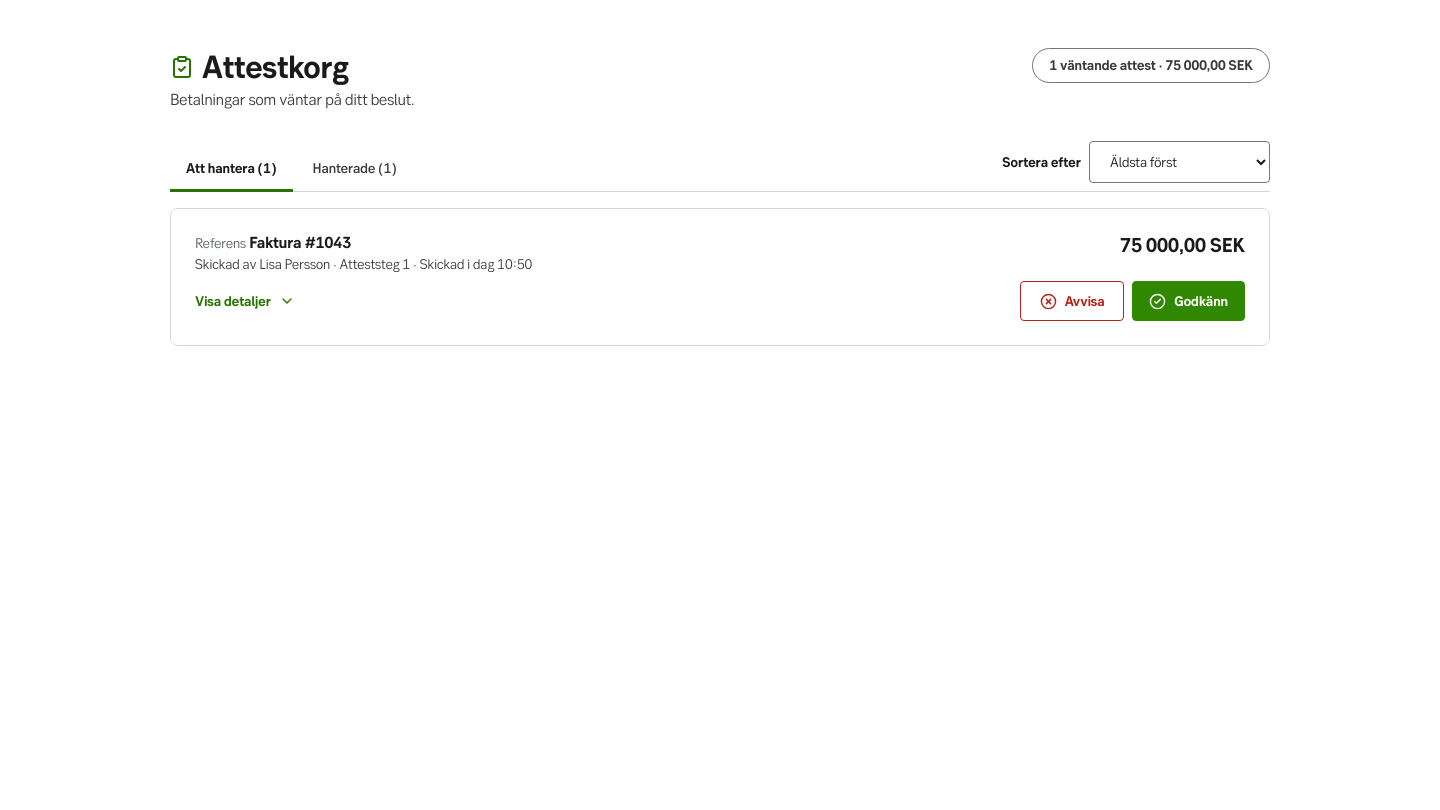
Test case: Approving and rejecting payments › approves without a comment
This screenshot has width=1440, height=810.
What coordinates should you click on to do the following:
click the button with aria-label "Godkänn betalning med referens"
I would click on:
 (1189, 301)
Its box is [1132, 281, 1245, 321].
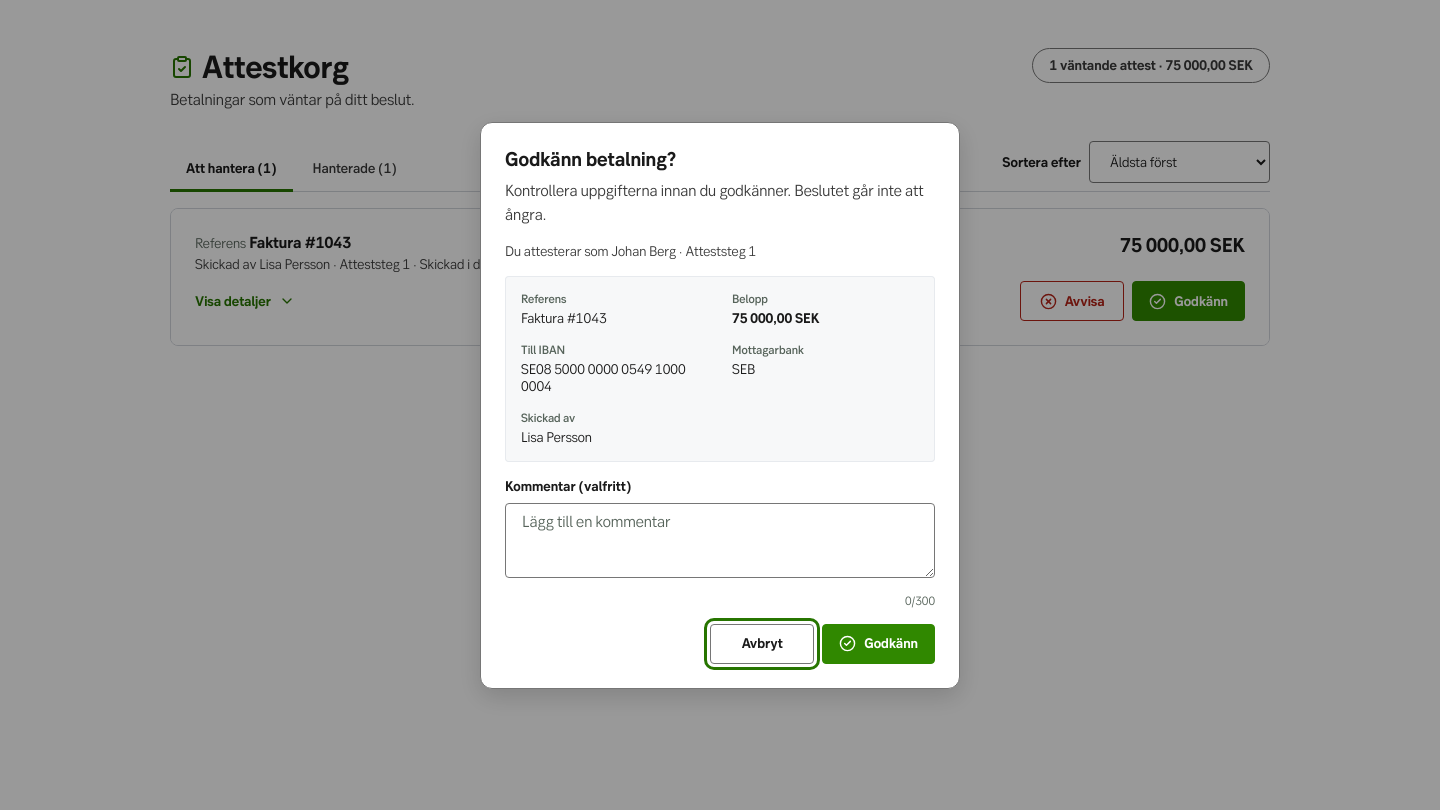
What coordinates should you click on to do the following:
click the button "Godkänn"
I would click on:
 (879, 644)
Its box is [822, 624, 935, 664].
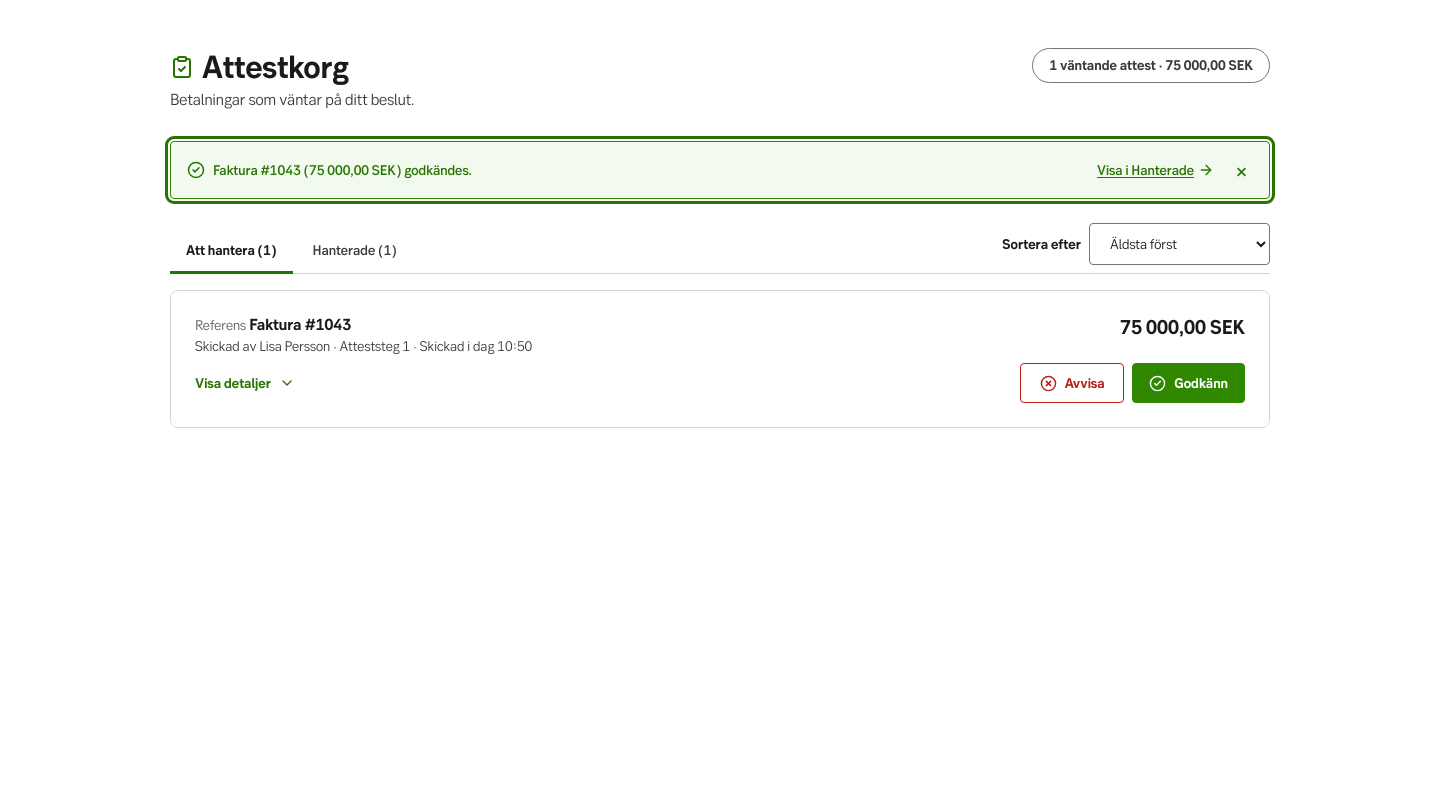
Check: the text "Faktura #1043 (75 000,00 SEK) godkändes." is shown, box [187, 161, 472, 179]
Check: the dialog is gone
